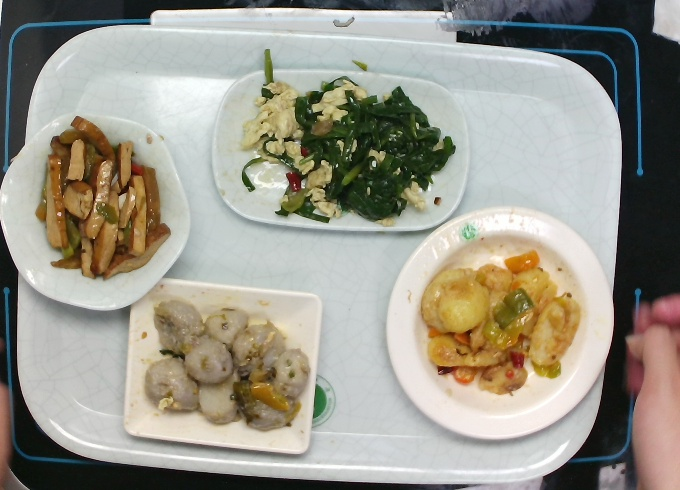WCQzf-Bai_Se_Si_Fang_Die: (117, 284, 336, 451)
WCQzf-Hua_Duo_Wan: (5, 111, 192, 314)
WCQzf-Kuan_Bian_Yuan_Die: (378, 205, 612, 438)
WCQzf-Tuo_Yuan_Pan: (216, 69, 471, 241)
